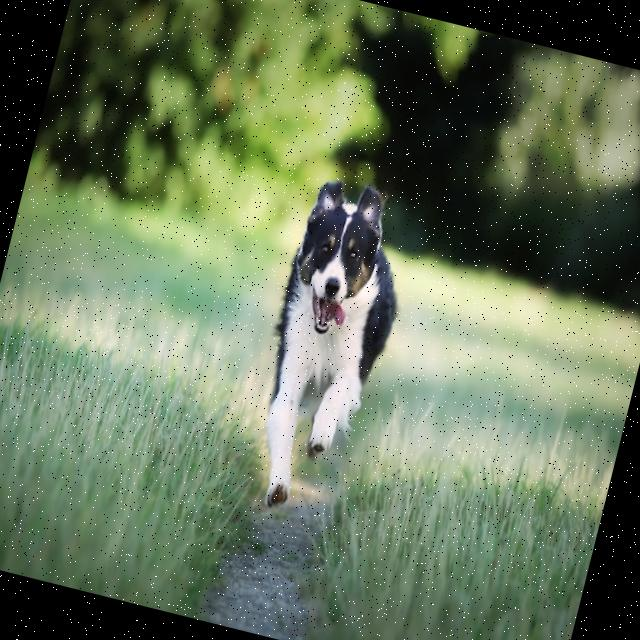Dog: (233, 178, 422, 528)
